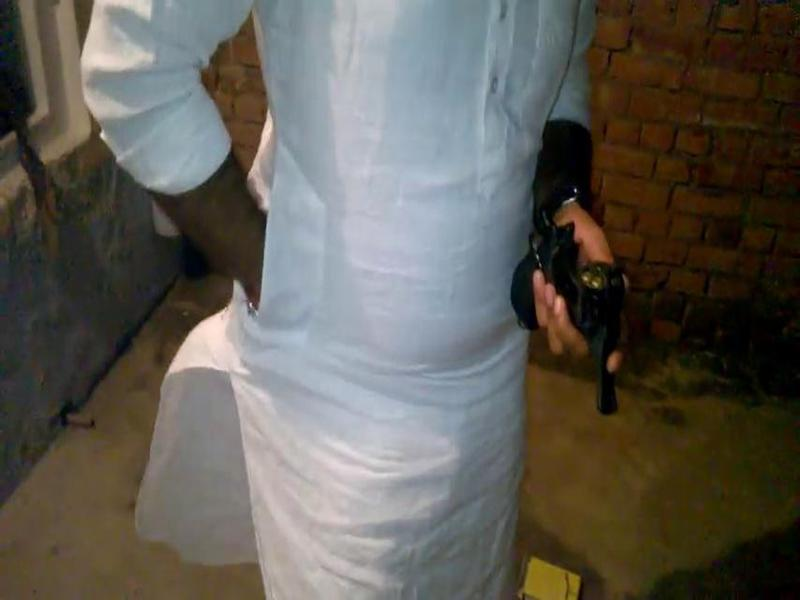Revolver: (528, 193, 642, 460)
